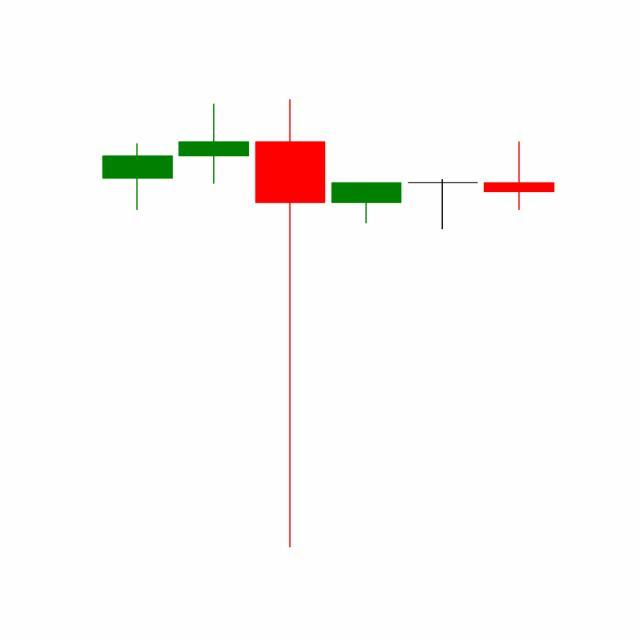Hanging Man: (404, 179, 482, 231)
